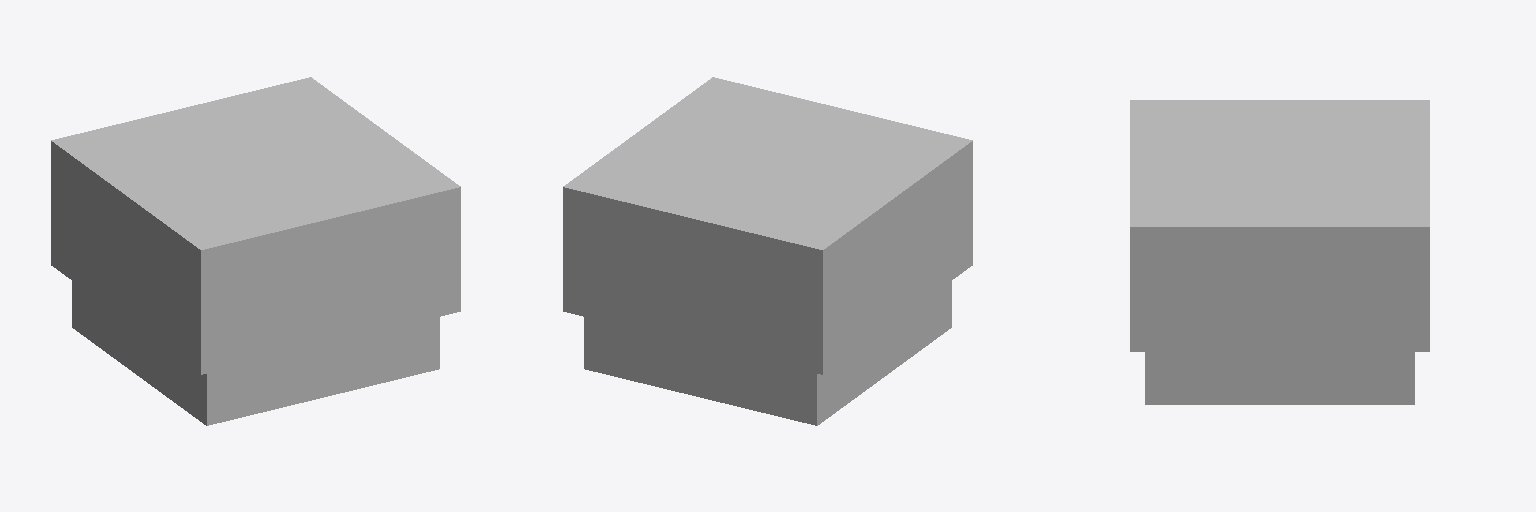
The model's file is tile_020.obj.
3 views of the same model, side by side, from view 1: azimuth 30°, elevation 25°; view 2: azimuth 150°, elevation 25°; view 3: azimuth 270°, elevation 25° (orthographic).
Visible parts, largest first — view 1: tile_020; view 2: tile_020; view 3: tile_020.
Boxes of the visible parts, x1=… form: tile_020: x1=51, y1=77, x2=460, y2=425; tile_020: x1=563, y1=77, x2=972, y2=425; tile_020: x1=1130, y1=100, x2=1429, y2=404.
Size of the model in its own units: 0.5901 by 0.4 by 0.5901.